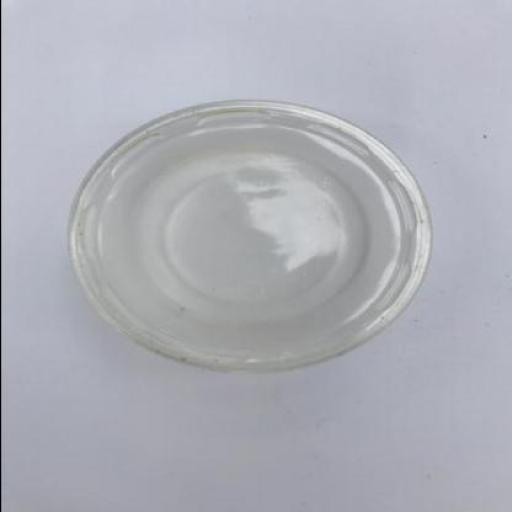plastic: (68, 99, 432, 372)
